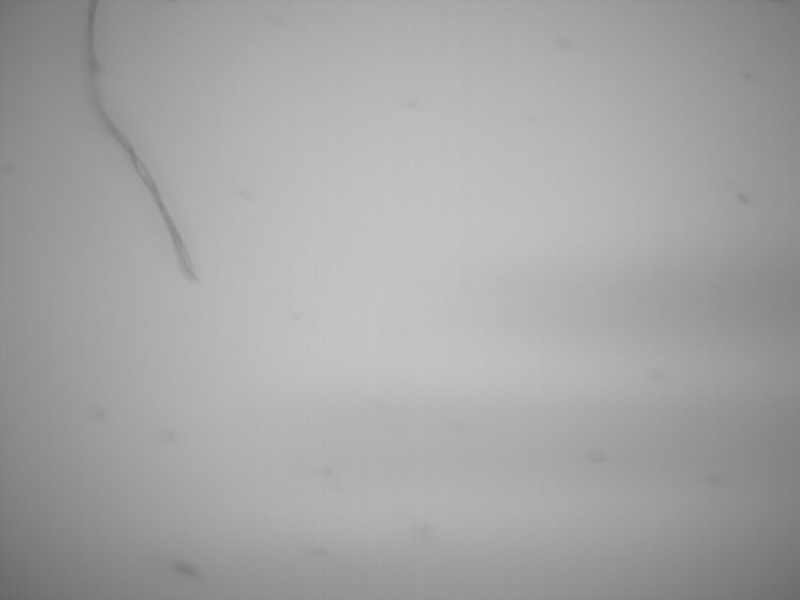fiber: (74, 1, 200, 286)
